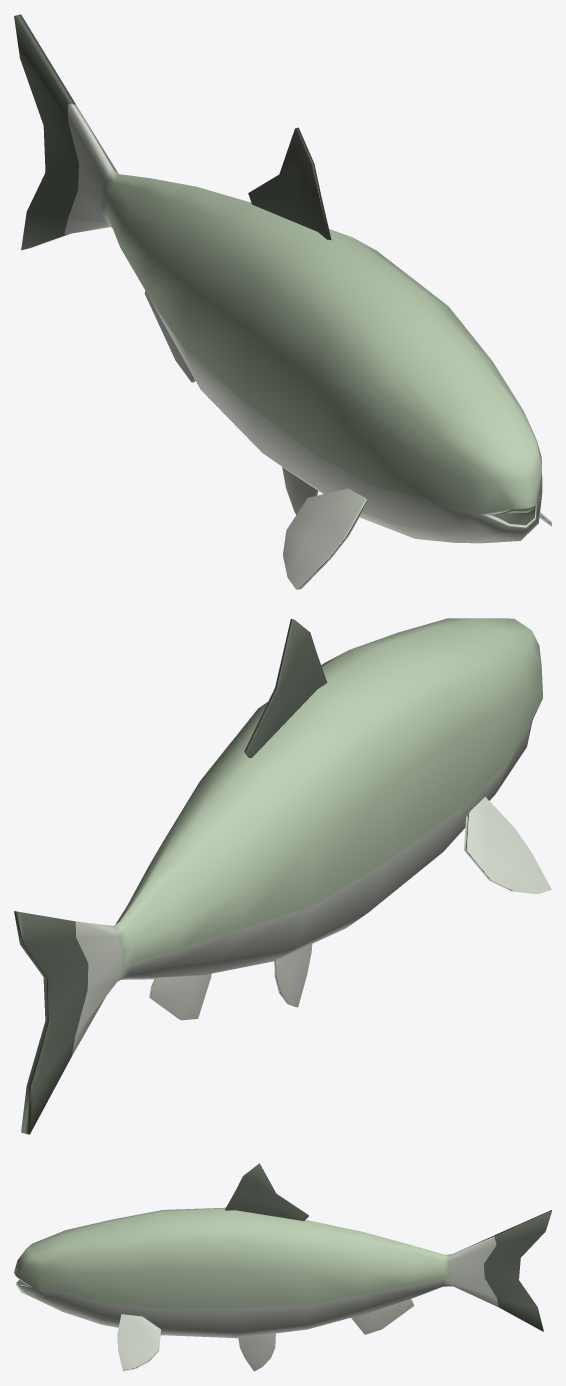
Rendered from fish1.fbx.
The picture shows the model from 3 angles, top to bottom: view 1: azimuth 30°, elevation 25°; view 2: azimuth 150°, elevation 25°; view 3: azimuth 270°, elevation 25°; orthographic projection. The views are drawn at different scales.
Visible parts, largest first — view 1: fish1; view 2: fish1; view 3: fish1.
Boxes of the visible parts, <box> form: fish1: <box>14,14,551,589</box>; fish1: <box>14,618,551,1134</box>; fish1: <box>14,1163,551,1371</box>.
Size of the model in its own units: 16.01 by 23.56 by 55.44.
